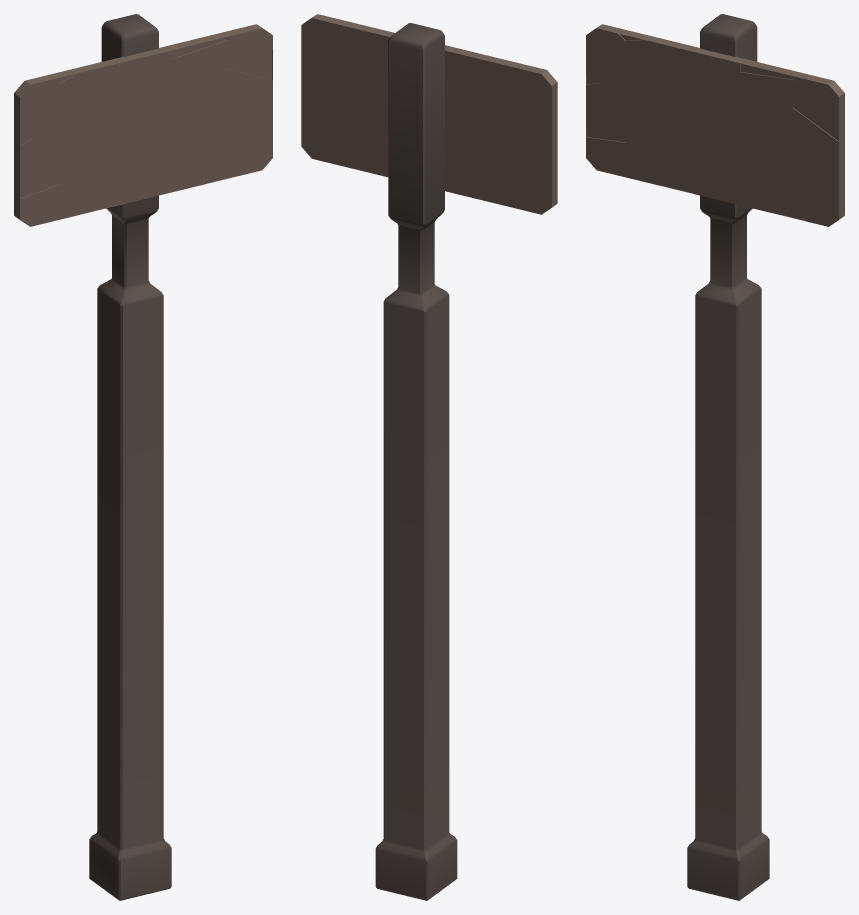
Rendered from props_71.glb.
3 views of the same model, side by side, from view 1: azimuth 30°, elevation 25°; view 2: azimuth 150°, elevation 25°; view 3: azimuth 330°, elevation 25° (orthographic).
Visible parts, largest first — view 1: props_71; view 2: props_71; view 3: props_71.
Boxes of the visible parts, x1=… form: props_71: x1=14, y1=14, x2=272, y2=900; props_71: x1=301, y1=14, x2=557, y2=900; props_71: x1=586, y1=14, x2=844, y2=900.
Size of the model in its own units: 0.8412 by 2.74 by 0.1804.
1 material, 1 textured.
